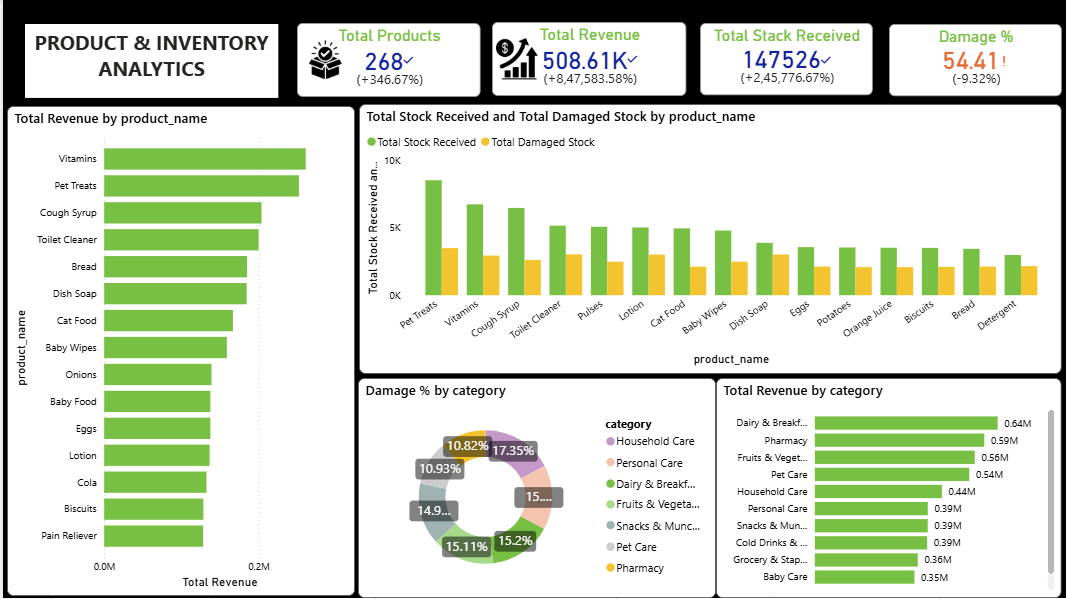

What the dashboard file says about the page in this screenshot:
{"tool":"powerbi","page":{"name":"PRODUCT & INVENTORY ANALYTICS","canvas":[1280,720],"ordinal":2},"visuals":[{"type":"clusteredBarChart","fields":{"Category":["products_clean.category"],"Y":["order_items_clean.Total Revenue"]},"box":[858,454.6,416.5,265.4],"z":0},{"type":"clusteredBarChart","fields":{"Category":["products_clean.product_name"],"Y":["order_items_clean.Total Revenue"]},"box":[5.3,127.4,419.1,589.9],"z":1000},{"type":"donutChart","fields":{"Category":["products_clean.category"],"Y":["inventory_clean.Damage %"]},"box":[427,454.6,430.9,265.4],"z":2000},{"type":"clusteredColumnChart","fields":{"Category":["products_clean.product_name"],"Y":["inventory_clean.Total Stock Received","inventory_clean.Total Damaged Stock"]},"box":[428.3,124.8,846.1,324.5],"z":3000},{"type":"kpi","title":"Total Stack Received","fields":{"Indicator":["inventory_clean.Total Stock Received"],"TrendLine":["Date Table.Month Name"],"Goal":["CountNonNull(Dim Calendar.Year)"]},"box":[839.6,27.6,207.6,86.7],"z":4000},{"type":"kpi","title":"Total Revenue","fields":{"Indicator":["order_items_clean.Total Revenue"],"TrendLine":["Date Table.Month Name"],"Goal":["CountNonNull(Dim Calendar.Year)"]},"box":[588.2,26.5,233.9,89.3],"z":5000},{"type":"kpi","title":"Total Products","fields":{"Indicator":["products_clean.Total Products"],"TrendLine":["Date Table.Month Name"],"Goal":["CountNonNull(Dim Calendar.Year)"]},"box":[353.4,27.6,220.7,89.3],"z":6000},{"type":"image","box":[593.4,46.2,49.9,49.9],"z":7000},{"type":"image","box":[363.5,47.5,48.6,49.9],"z":8000},{"type":"kpi","title":"Damage %","fields":{"Indicator":["inventory_clean.Damage %"],"TrendLine":["Date Table.Month Name"],"Goal":["CountNonNull(Dim Calendar.Year)"]},"box":[1066.9,28.9,207.6,86.7],"z":9000},{"type":"textbox","box":[26.3,28.9,304.8,89.3],"z":10000}]}

Visuals, with their boxes in screenshot pixels (x1, y1, x2, y2), scaled from the page's 1280x720 canvas onto the 1066x599 screenshot:
clusteredBarChart - products_clean.category x order_items_clean.Total Revenue: x1=715 y1=378 x2=1061 y2=598
clusteredBarChart - products_clean.product_name x order_items_clean.Total Revenue: x1=4 y1=106 x2=353 y2=597
donutChart - products_clean.category x inventory_clean.Damage %: x1=356 y1=378 x2=714 y2=598
clusteredColumnChart - products_clean.product_name x inventory_clean.Total Stock Received: x1=357 y1=104 x2=1061 y2=374
"Total Stack Received" kpi: x1=699 y1=23 x2=872 y2=95
"Total Revenue" kpi: x1=490 y1=22 x2=685 y2=96
"Total Products" kpi: x1=294 y1=23 x2=478 y2=97
image: x1=494 y1=38 x2=536 y2=80
image: x1=303 y1=40 x2=343 y2=81
"Damage %" kpi: x1=889 y1=24 x2=1061 y2=96
textbox: x1=22 y1=24 x2=276 y2=98
